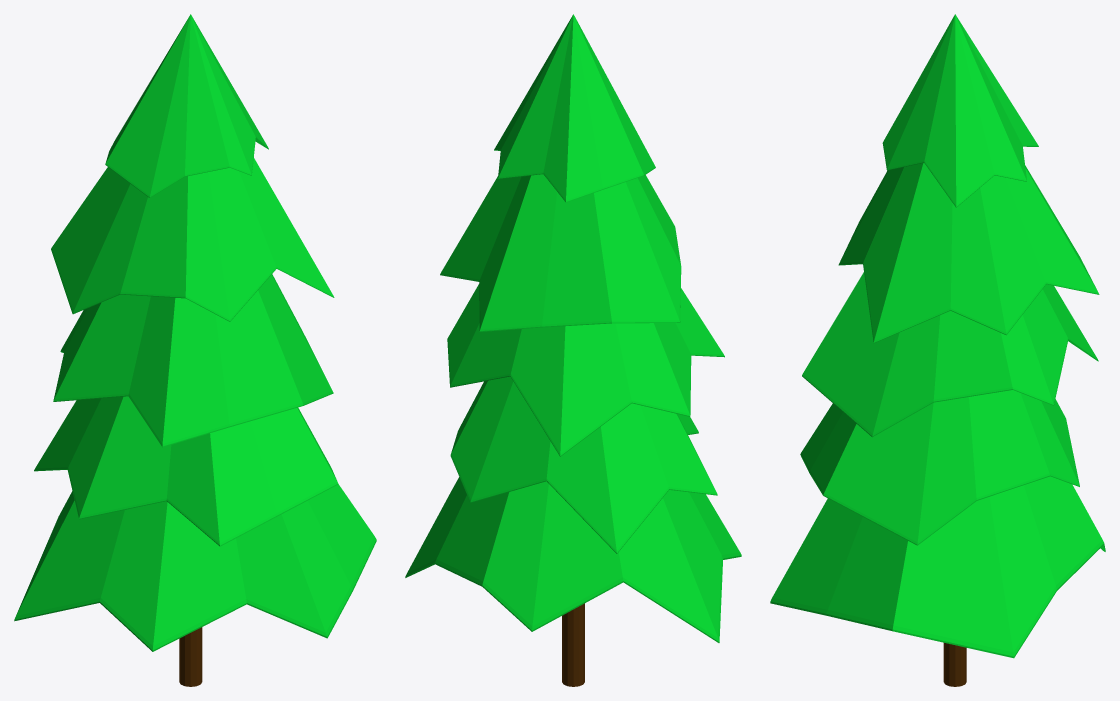
File: ель.glb
3 renders of one model, left to right at view 1: azimuth 30°, elevation 25°; view 2: azimuth 150°, elevation 25°; view 3: azimuth 270°, elevation 25°, orthographic.
Visible parts, largest first — view 1: Cylinder; view 2: Cylinder; view 3: Cylinder.
Boxes of the visible parts, box(x1,y1,x2,y2) form: Cylinder: box(14, 14, 376, 686); Cylinder: box(405, 14, 741, 686); Cylinder: box(770, 14, 1105, 686).
Bounding box in the file's own units: 1.86 × 3.75 × 1.71.
